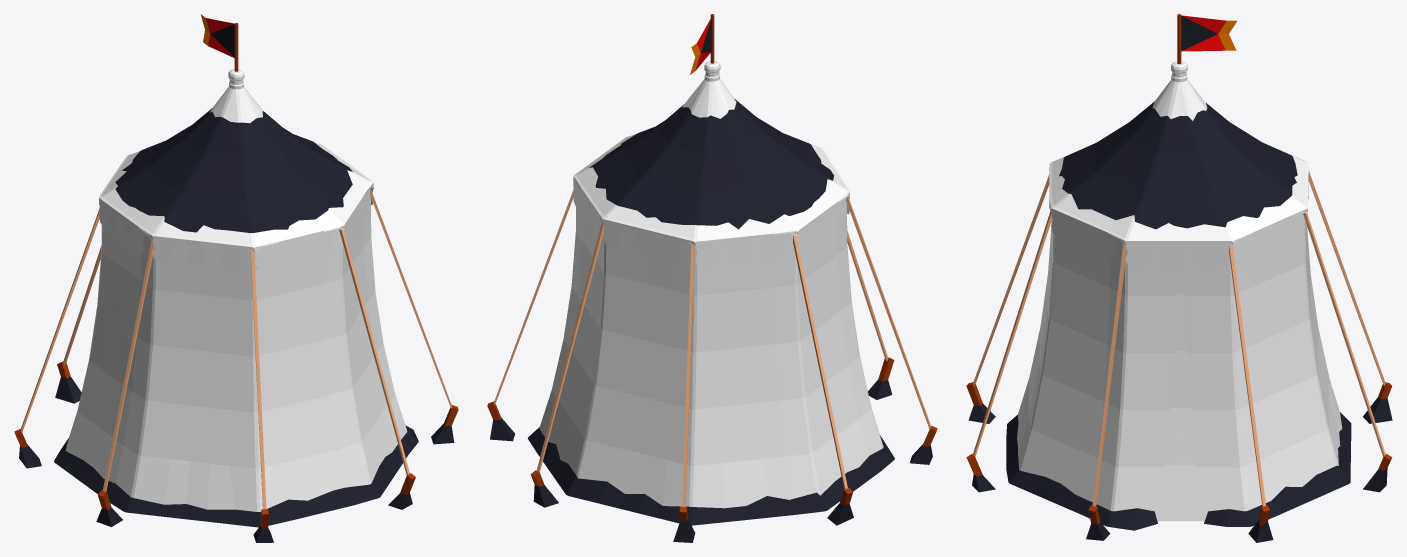
Rendered from Tent5.fbx.
3 views of the same model, side by side, from view 1: azimuth 30°, elevation 25°; view 2: azimuth 150°, elevation 25°; view 3: azimuth 270°, elevation 25° (orthographic). The views are drawn at different scales.
Parts seen in each view (by area): view 1: Tent5; view 2: Tent5; view 3: Tent5.
Part boxes in pixels (box(x1,y1,x2,y2)): Tent5: box(14, 14, 458, 542); Tent5: box(487, 14, 937, 542); Tent5: box(966, 14, 1392, 542).
Size of what is drawn, in the model's own units: 330 by 375 by 330.
